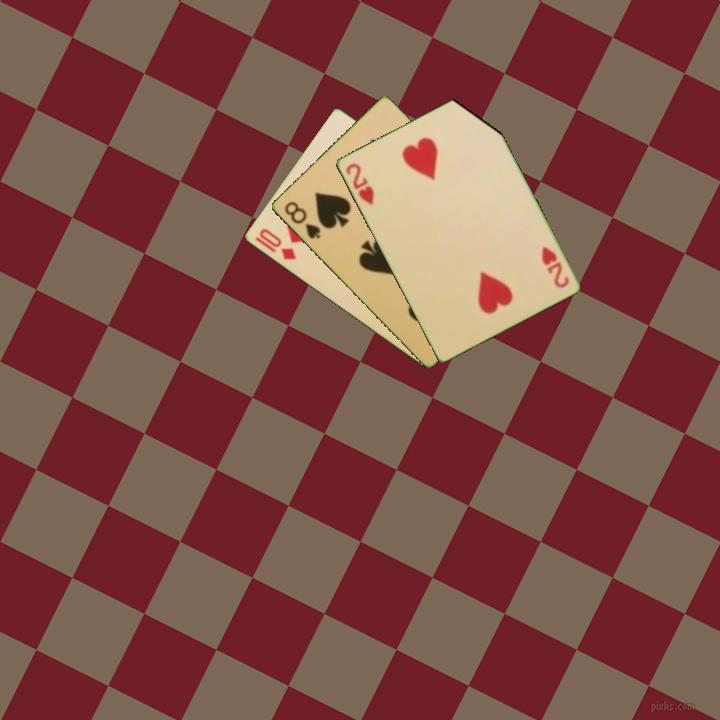10d: (255, 225, 299, 263)
2h: (342, 159, 377, 208), (537, 243, 572, 291)
8s: (281, 198, 323, 242)
